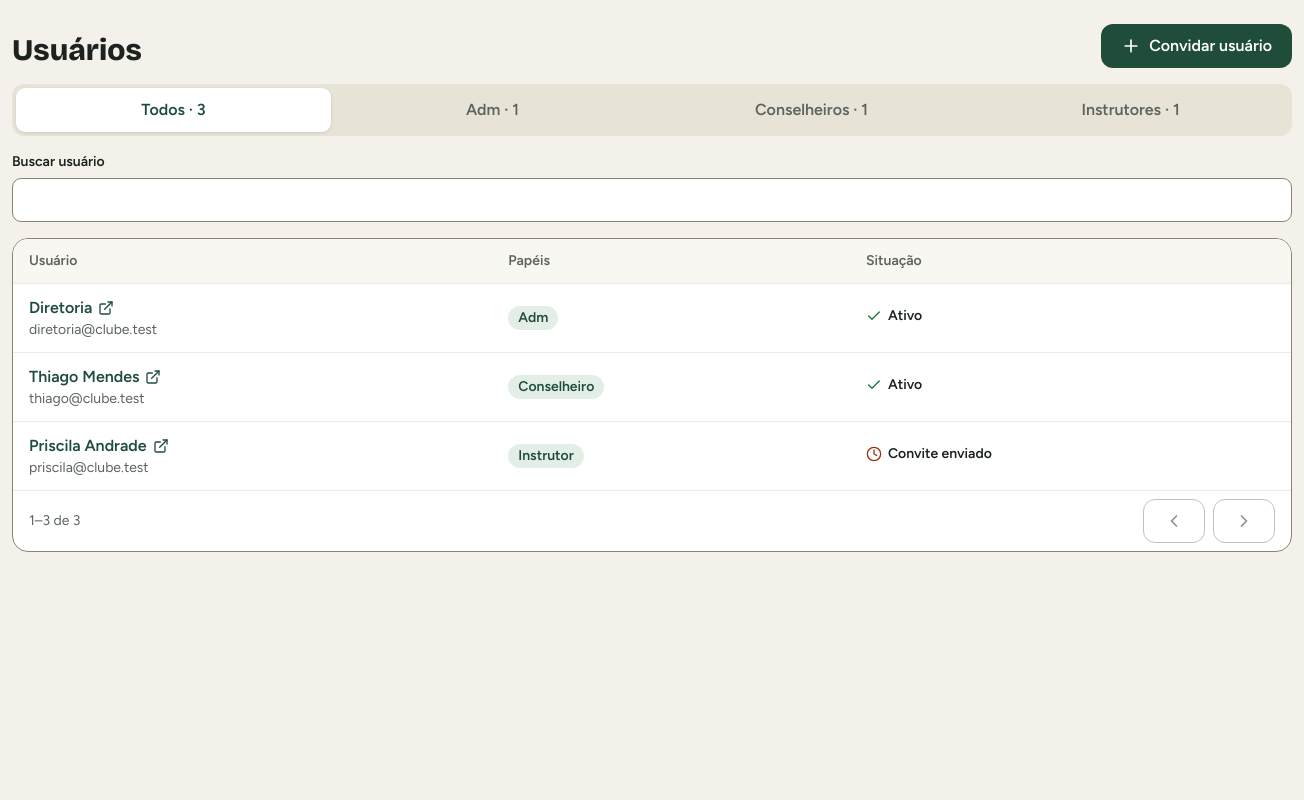
Test: lista de usuários › a busca vai para a API
Expected: the text "Diretoria" is shown, [29,296,114,320]
Type "priscila" into the search field labelled "Buscar usuário". click: (652, 200)
box: [12,178,1292,222]
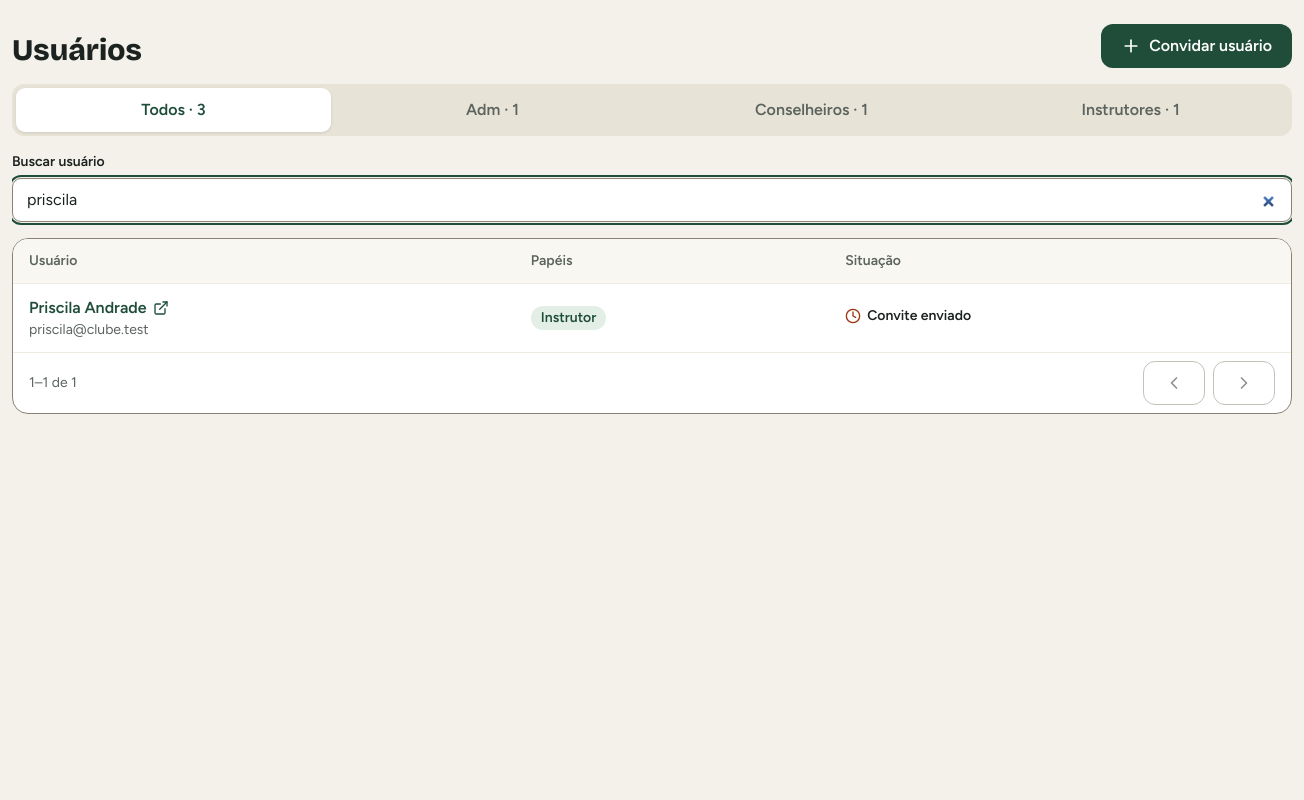
Expected: the text "Priscila Andrade" is shown, [29,296,169,320]
Now the link "Diretoria" is gone
